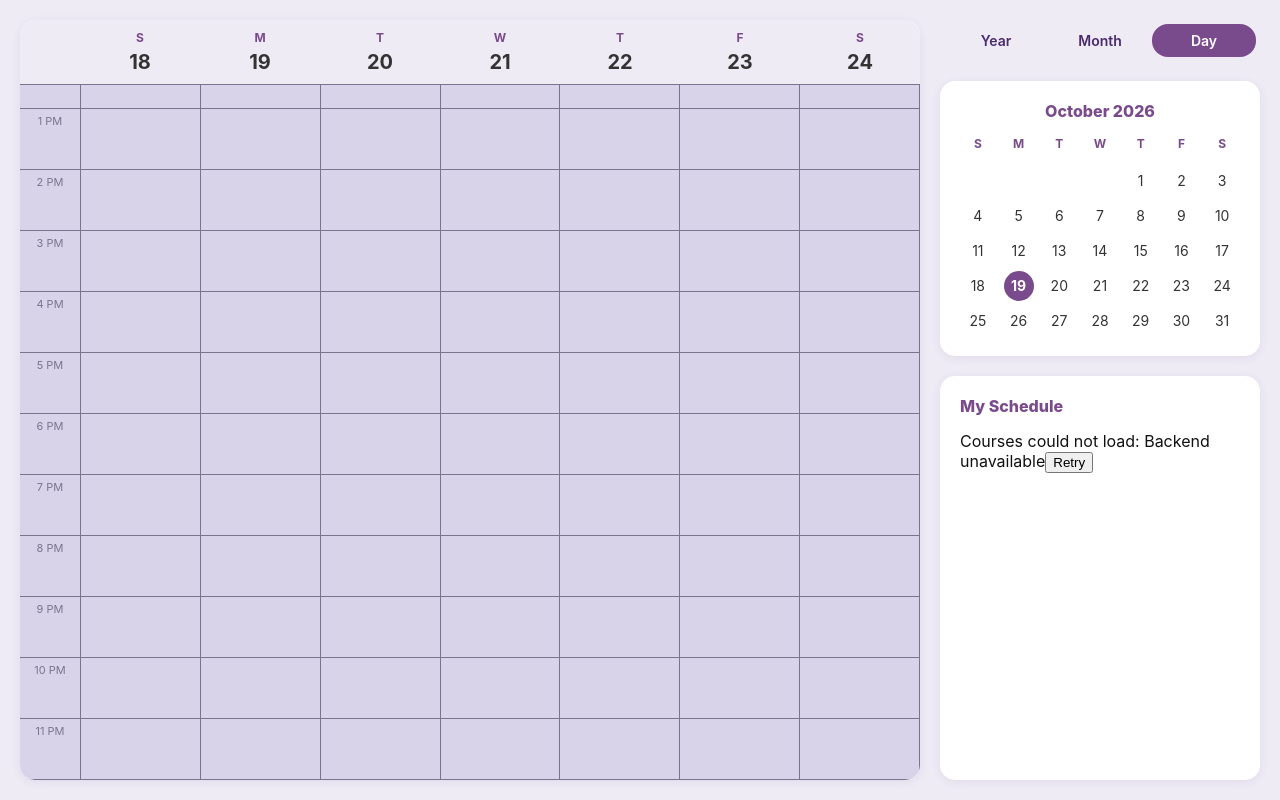
Test case: failed course requests show an error and can be retried
(page scrolled)
expect the message shows "Backend unavailable": met, box [960,431,1210,471]
expect the text "No classes on this day." is not shown: met
Click the button "Retry".
click(1069, 462)  # box [1045,452,1093,473]
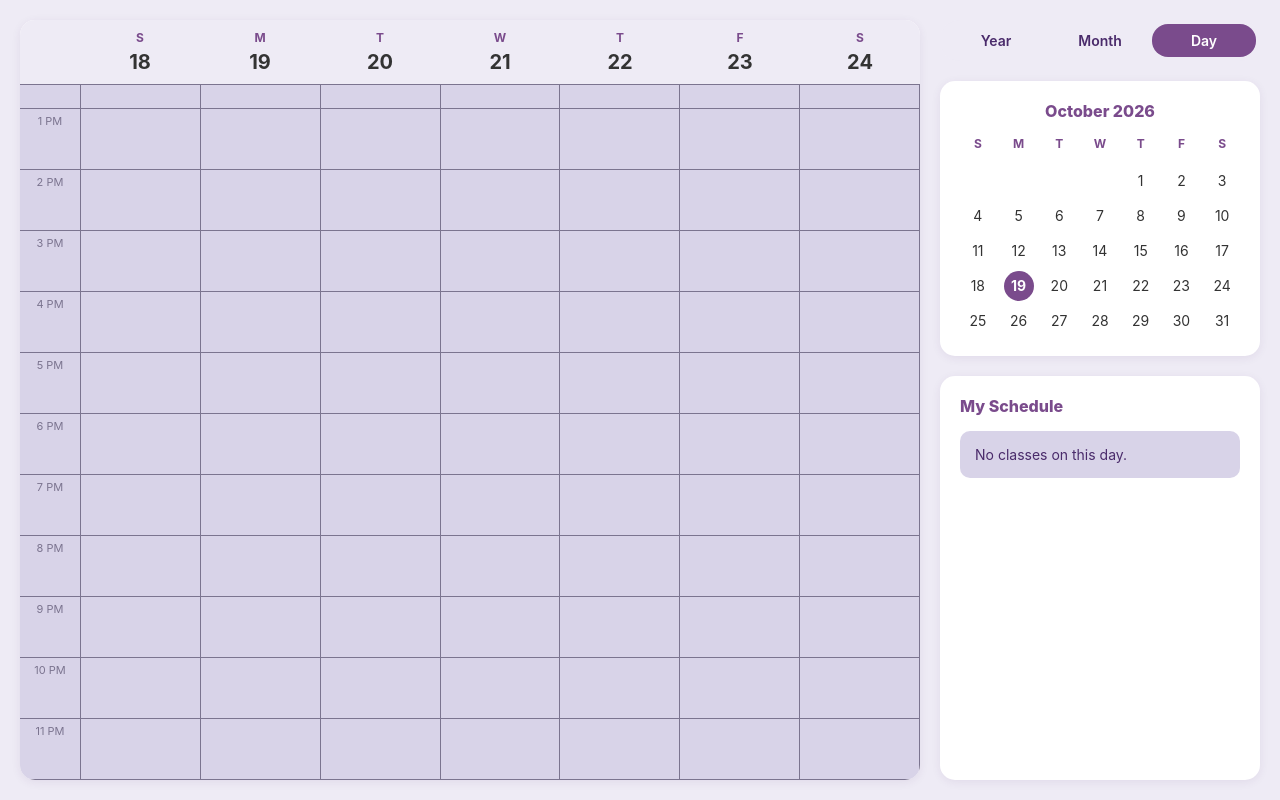
expect the text "No classes on this day." is shown: met, box [960,431,1240,478]
expect the message "Courses could not load: Backend unavailable Retry" is gone: met
